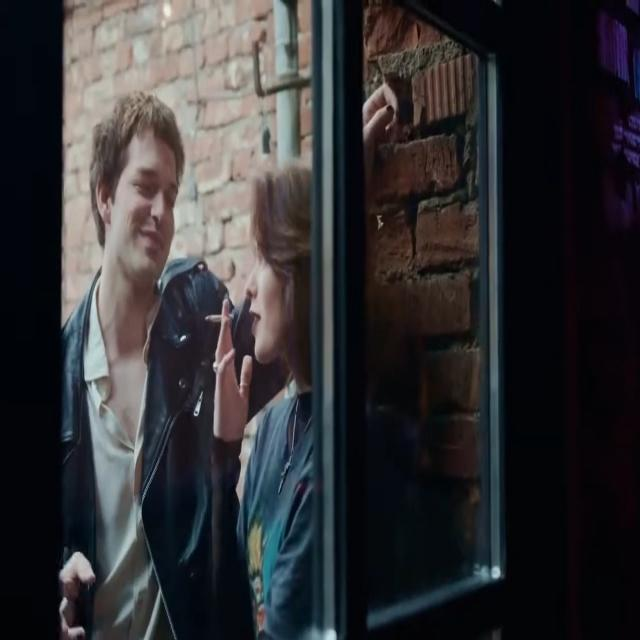Курение: (204, 311, 236, 326)
